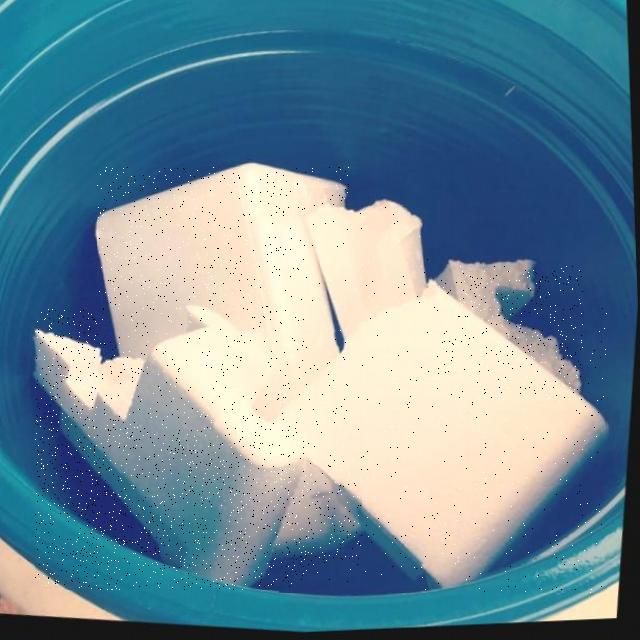styrofoam: (280, 292, 607, 592), (35, 309, 305, 590), (98, 167, 350, 427), (436, 266, 584, 399), (308, 206, 431, 355), (273, 465, 362, 565)
